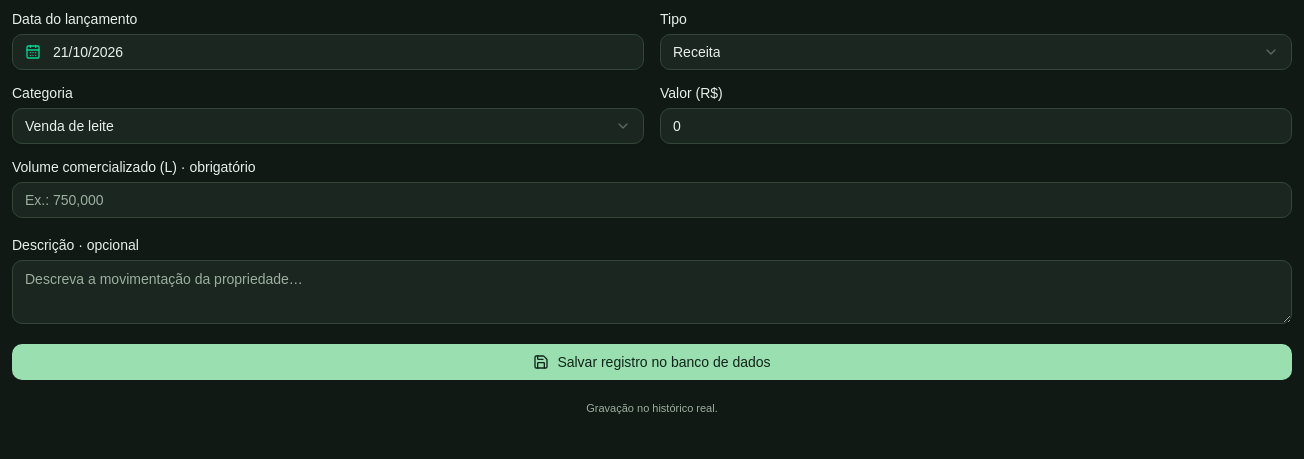
Test case: financial record form › requires milk volume and exposes the field error accessibly
The width and height of the screenshot is (1304, 459).
Replace the text in the number field labelled "Valor (R$)" with "1000" at [976, 126], box [660,108,1292,144]
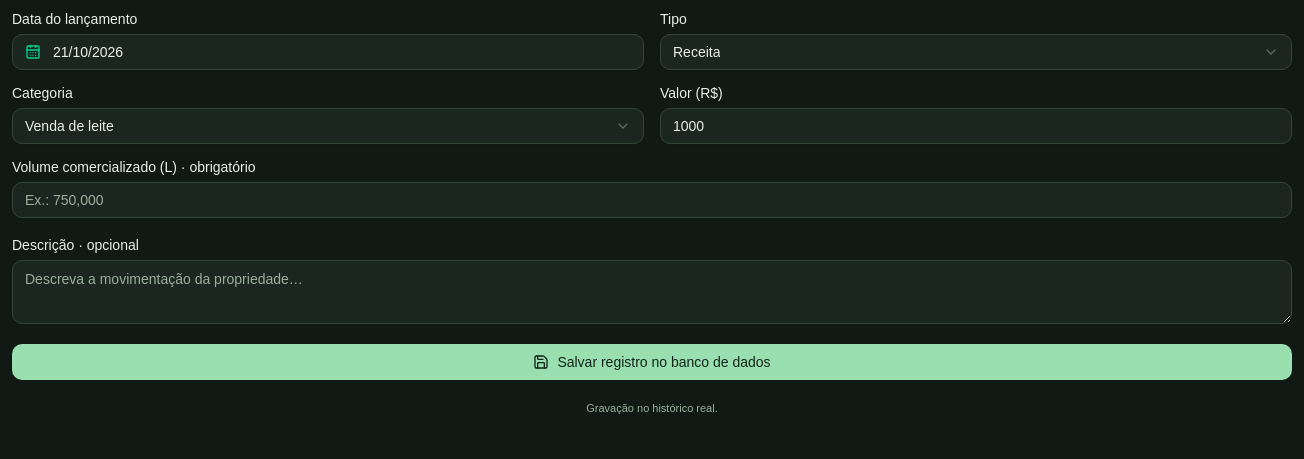
Click the button "Salvar registro no banco de dados".
click(652, 362)  # box [12,344,1292,380]
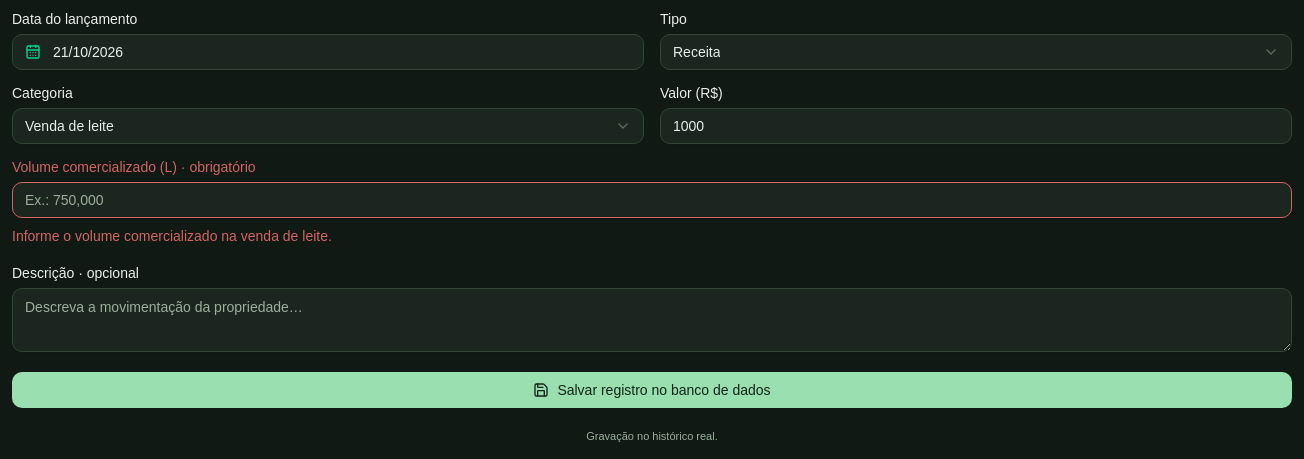
Check: the text "Informe o volume comercializado na venda de leite." is shown, box [12,228,332,244]
